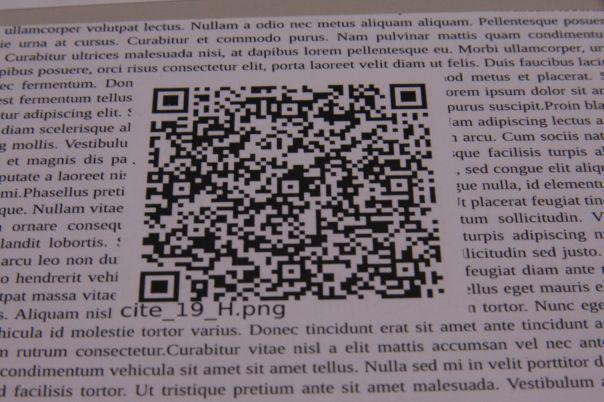Finder pattern: (136, 269, 184, 305), (386, 79, 432, 114), (148, 86, 194, 114)
